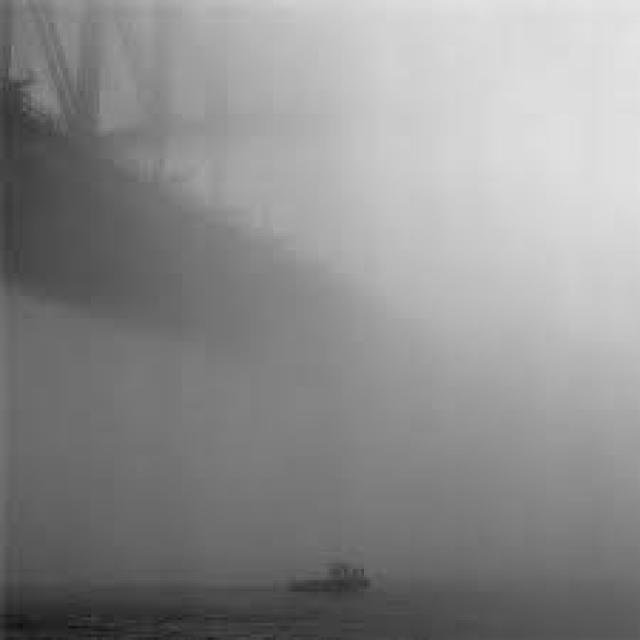fishing boat: (260, 549, 372, 594)
